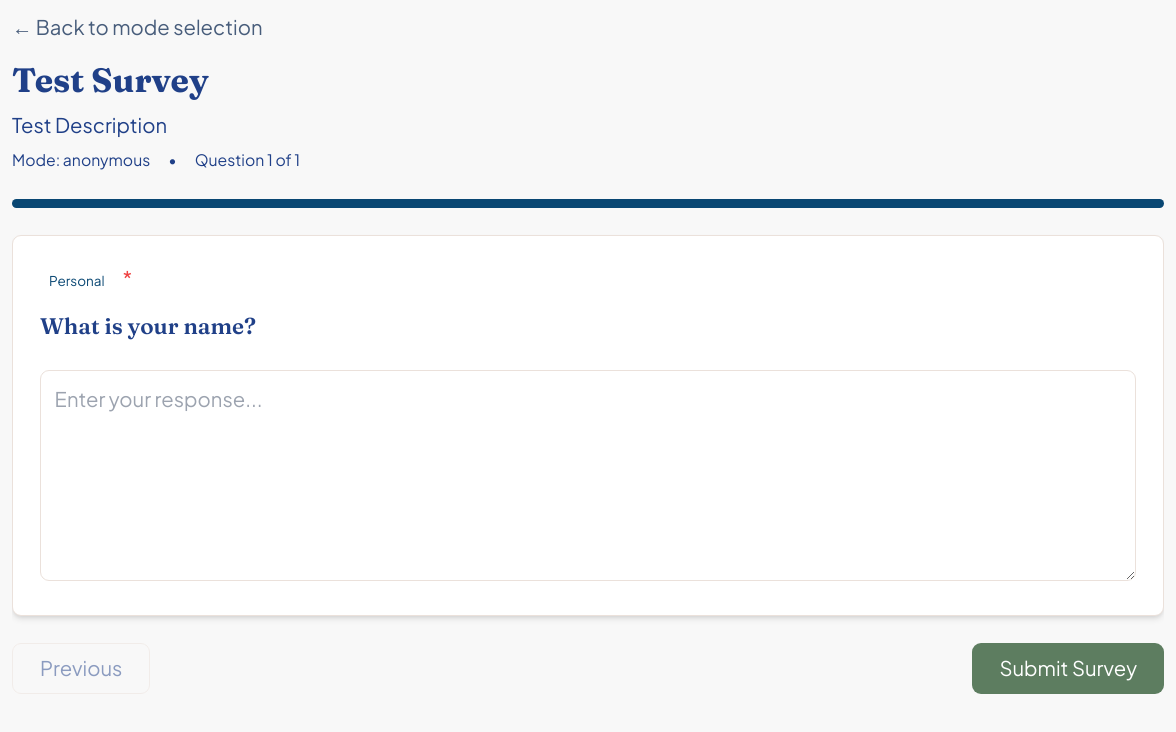
Test case: SurveyForm › Submission › should show submitting state during submission
Type "Answer" into the text box with placeholder "Enter your response...".
click(588, 475); type("Answer")  # box [40,370,1136,581]
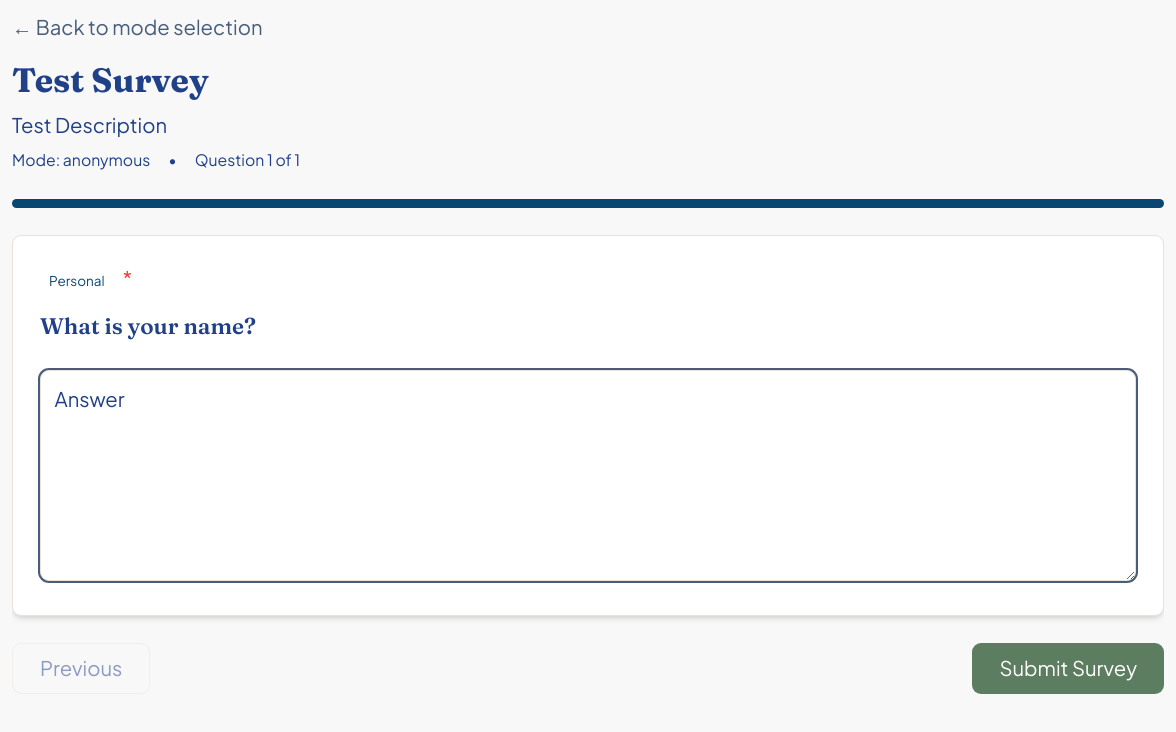
Click the button "Submit Survey".
click(1068, 668)  # box [972,643,1164,694]
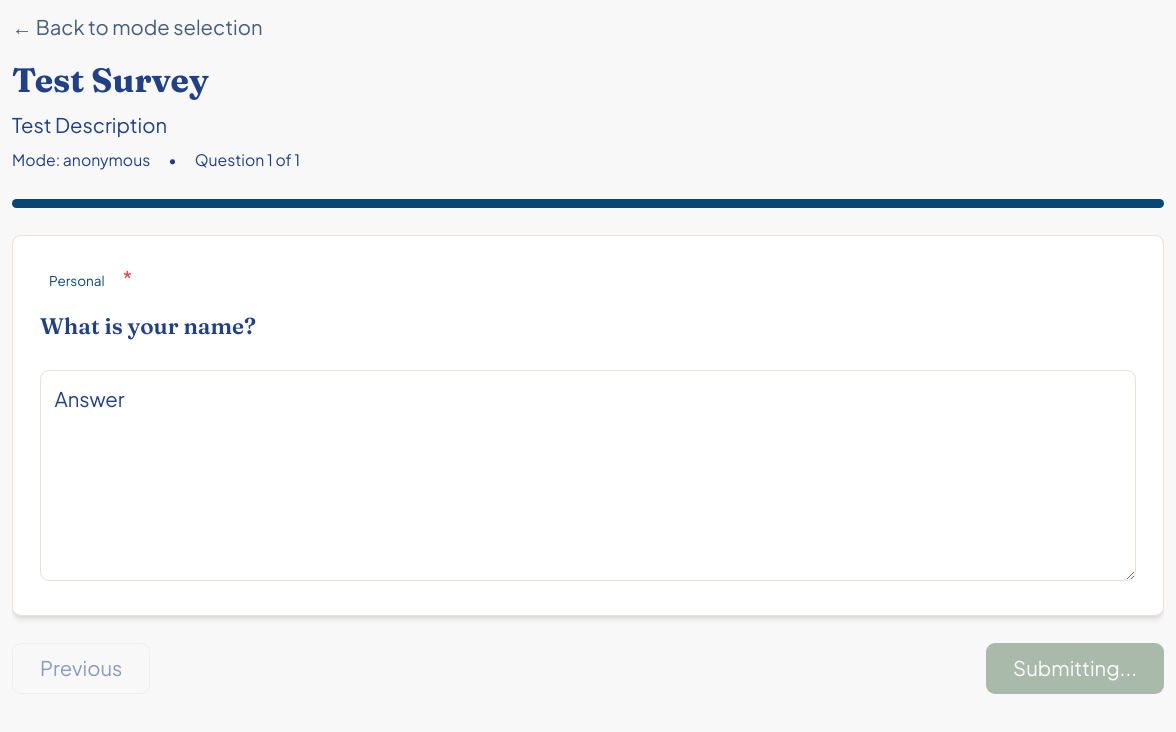
Now the button "Submitting..." is disabled, box [986,643,1164,694]
